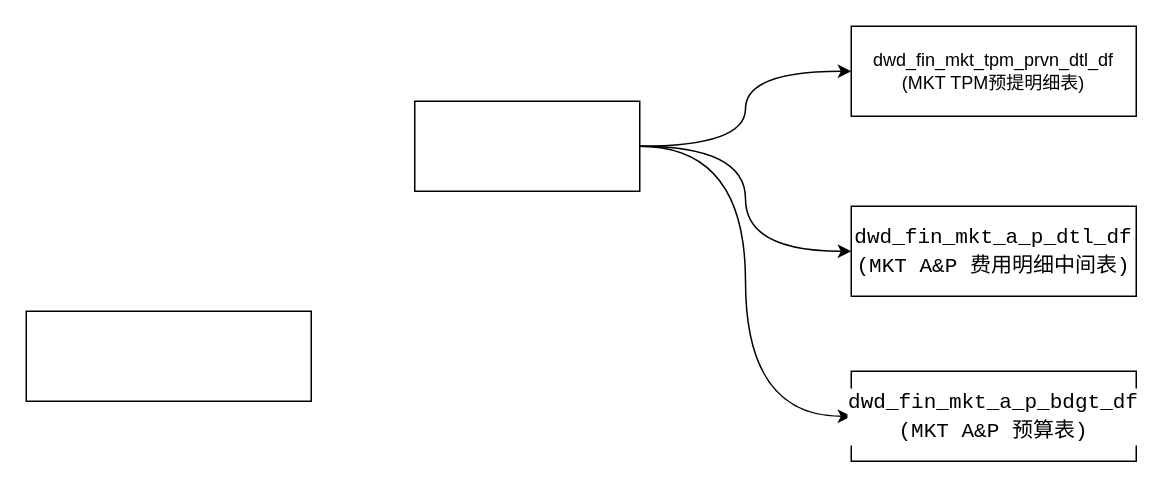
Image size: 1164x488. Some labels were removed from this diagram. Here are the shapes that lost their labels. From the top down, the centre of each, then its label:
pixel 526 145: dws_fin_a_p_mkt_dtl_df (销售财务报表A&P MKT明细表)
pixel 168 355: ads_fin_a_p_cf_rpt_df (销售财务报表A&P 财务报表)
